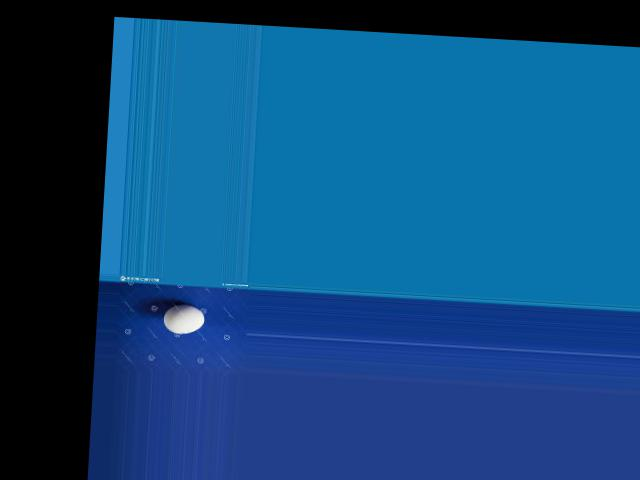egg: (163, 303, 205, 334)
